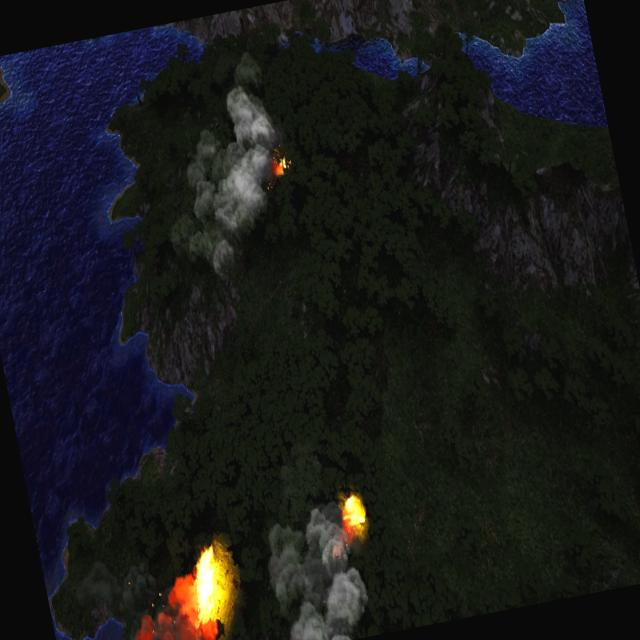fire: (186, 543, 234, 626), (338, 492, 372, 540), (272, 156, 292, 182)
smoke: (168, 53, 308, 279), (258, 499, 380, 640), (47, 564, 225, 640)
